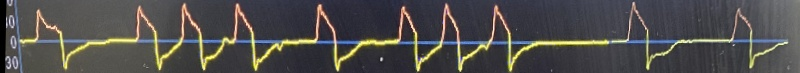normal_flow: (14, 0, 797, 73)
